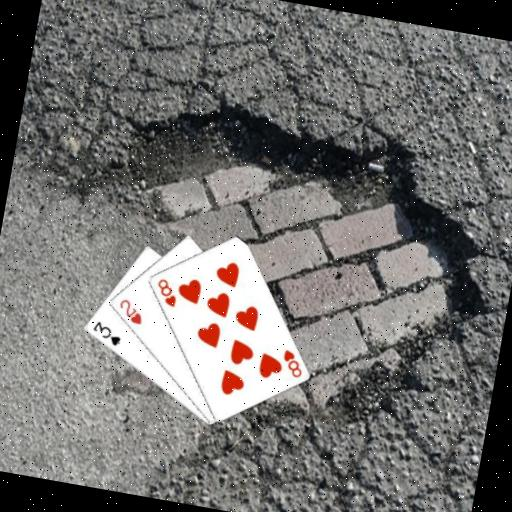2H: (113, 295, 146, 327)
3S: (87, 317, 124, 348)
8H: (150, 274, 181, 309), (277, 346, 307, 380)
